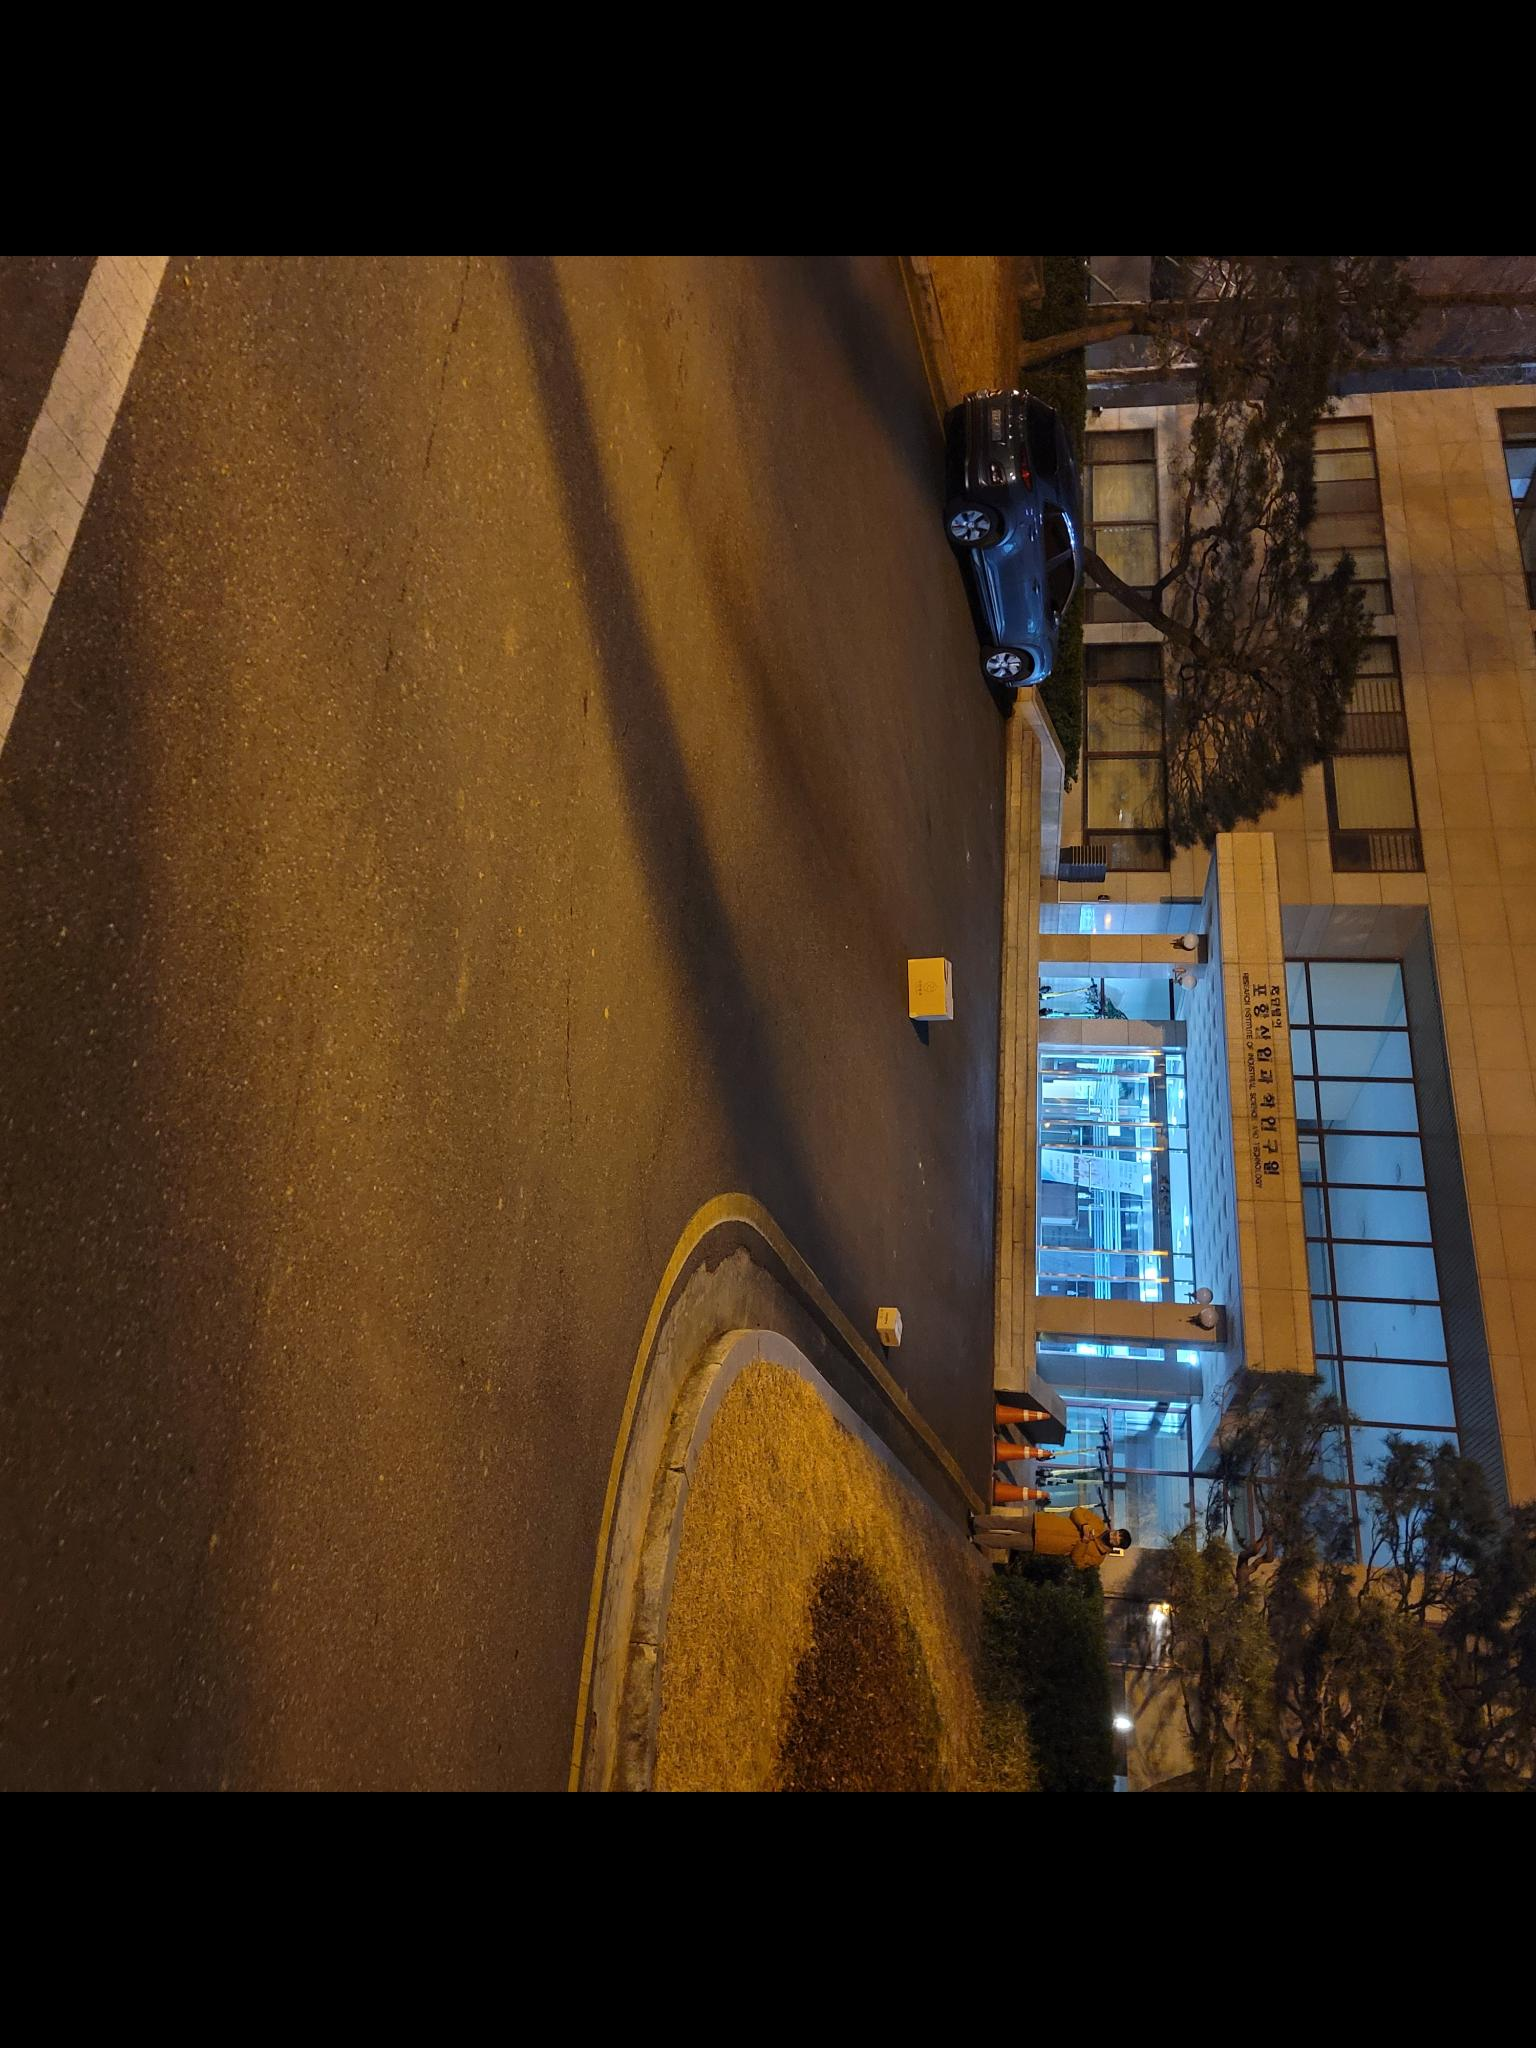Box: (895, 953, 962, 1029), (873, 1301, 912, 1351)
